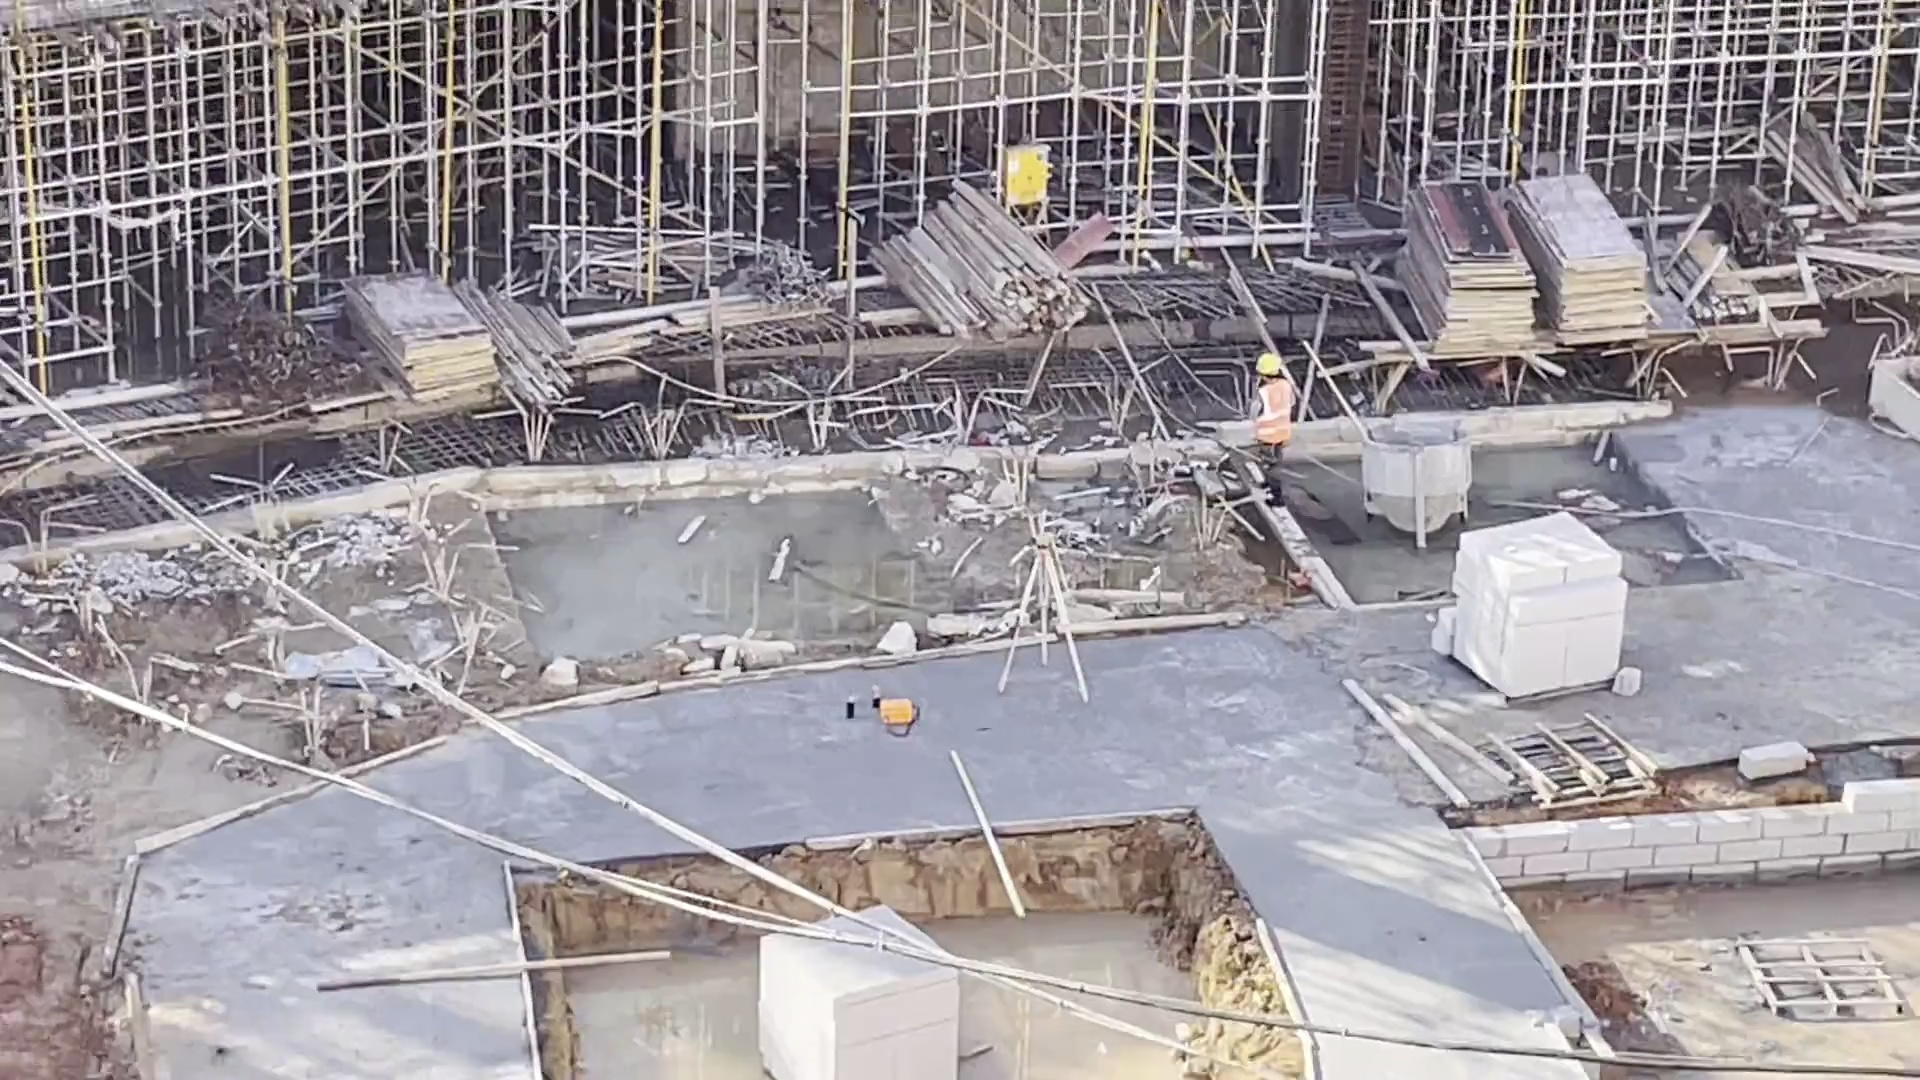board: (1385, 186, 1523, 365), (1525, 175, 1656, 344), (344, 273, 504, 407)
brick: (1438, 503, 1627, 716), (755, 900, 960, 1079)
ebox: (994, 146, 1049, 226)
helmet: (1254, 355, 1282, 375)
hopper: (1356, 413, 1471, 550)
person: (1247, 349, 1295, 477)
vest: (1259, 383, 1292, 443)
wood: (879, 193, 1094, 344)
